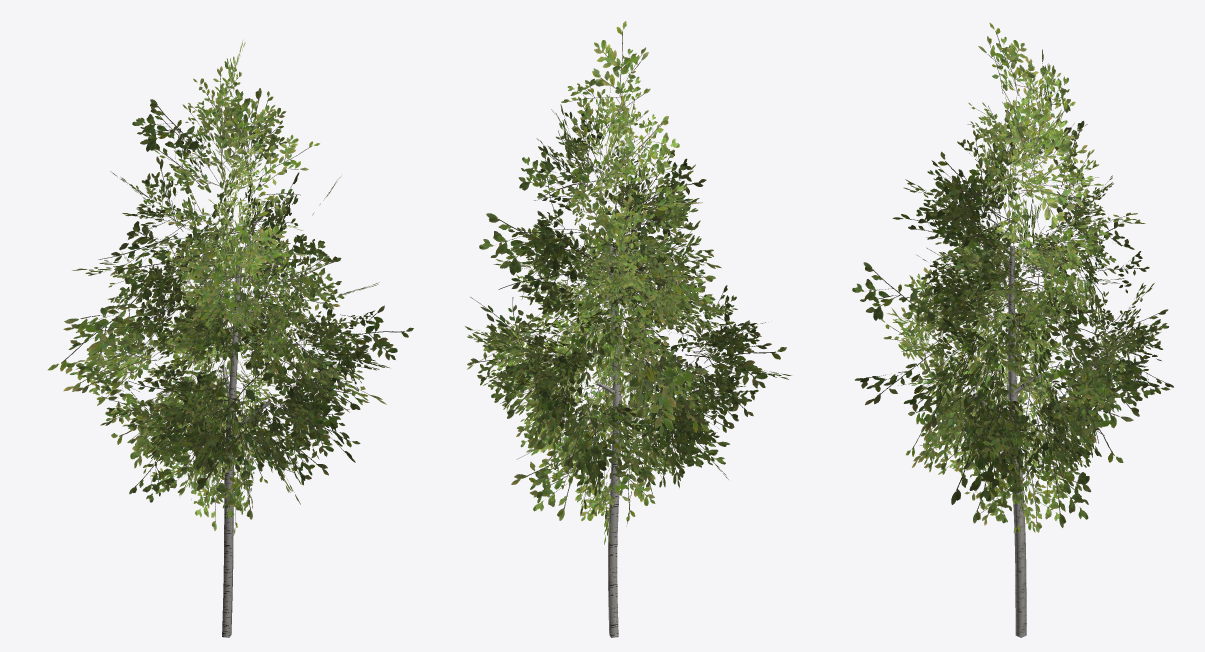
Rendered from tree_birch_v0_l1.glb.
The picture shows the model from 3 angles, left to right: view 1: azimuth 30°, elevation 25°; view 2: azimuth 150°, elevation 25°; view 3: azimuth 270°, elevation 25°; orthographic projection.
Visible parts, largest first — view 1: tree_birch_v0_l1; view 2: tree_birch_v0_l1; view 3: tree_birch_v0_l1.
Part boxes in pixels (<box>): tree_birch_v0_l1: <box>48,41,413,637</box>; tree_birch_v0_l1: <box>465,21,791,637</box>; tree_birch_v0_l1: <box>852,22,1173,637</box>.
Size of the model in its own units: 7.08 by 12.21 by 6.51.
Materials: 2 (2 with a texture image).
